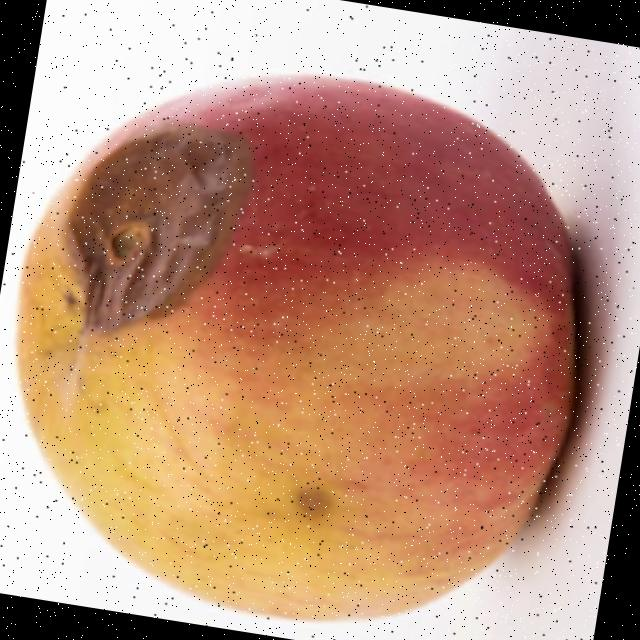Rotten: (0, 30, 620, 640)
